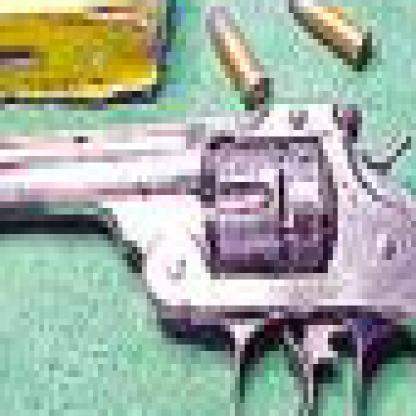gun: (0, 72, 411, 410)
